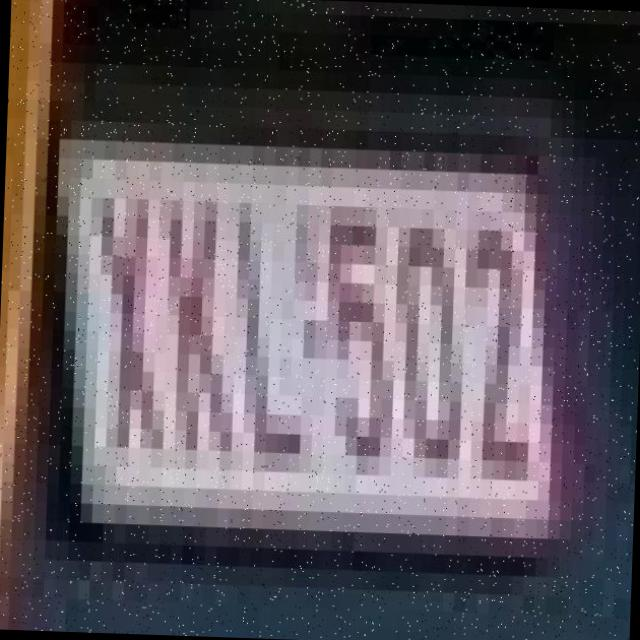LicensePlate: (42, 122, 568, 542)
